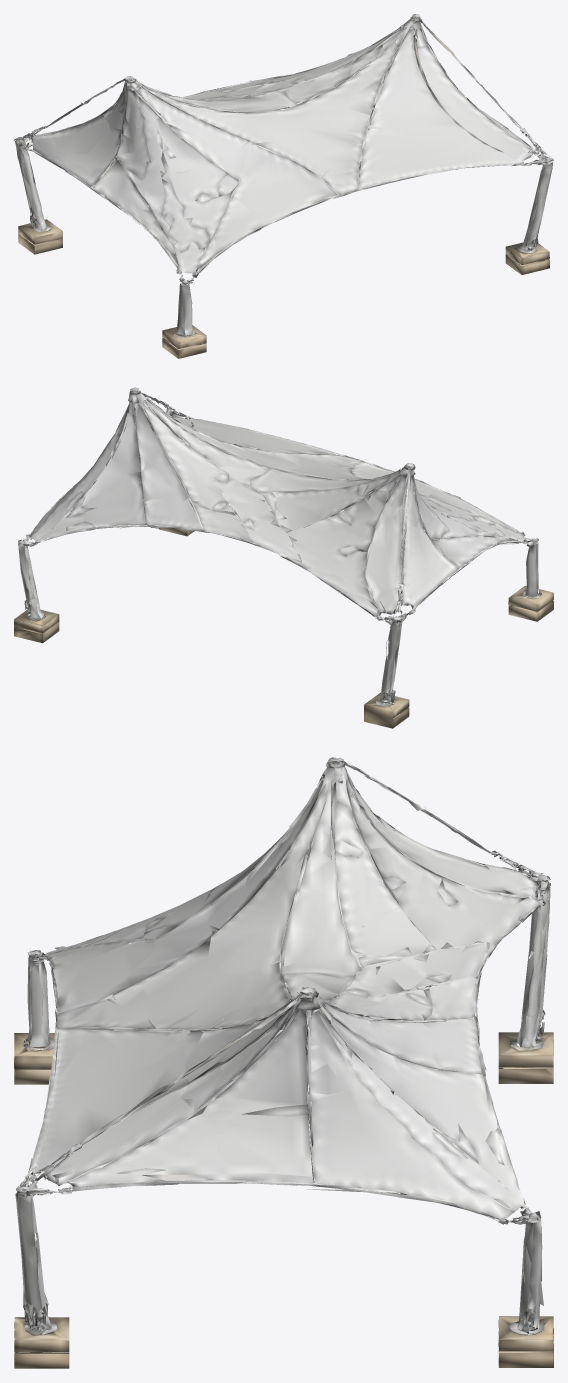
Rendered from sun_gate.glb.
3 views of the same model, one above another, from view 1: azimuth 30°, elevation 25°; view 2: azimuth 150°, elevation 25°; view 3: azimuth 270°, elevation 25° (orthographic). The views are drawn at different scales.
Visible parts, largest first — view 1: LO.001; view 2: LO.001; view 3: LO.001.
Part boxes in pixels (left/top/right/bottom): LO.001: left=14, top=14, right=553, bottom=358; LO.001: left=14, top=387, right=553, bottom=728; LO.001: left=14, top=757, right=553, bottom=1368.
Bounding box in the file's own units: 22.02 × 11.01 × 15.72.
1 material, 1 textured.
